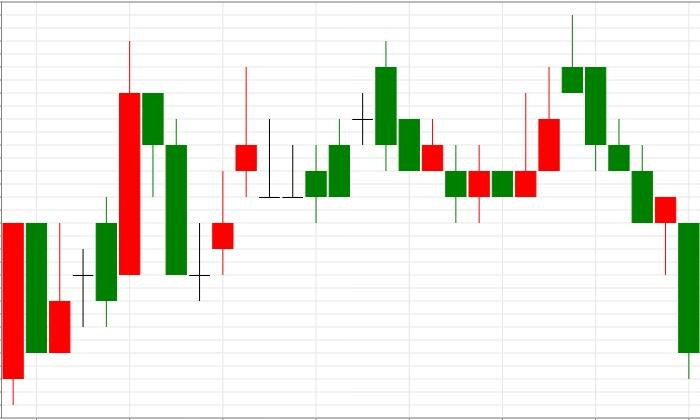hammer_rise: (562, 14, 676, 275)
